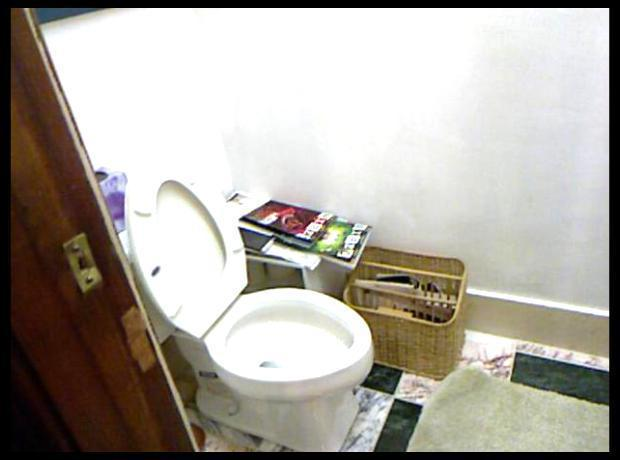Sanitario: (93, 152, 377, 449)
